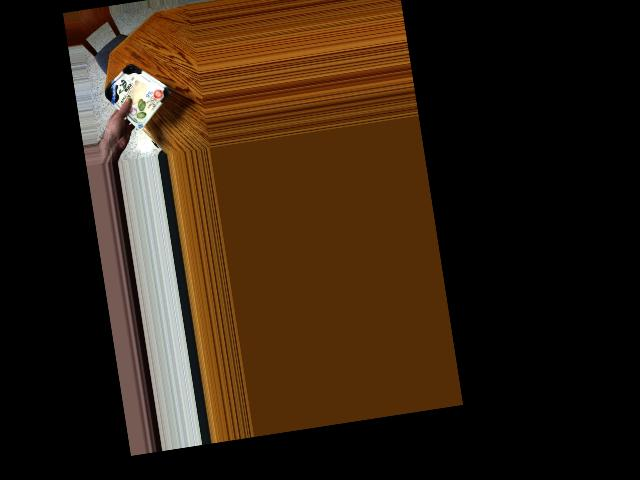cheese: (105, 67, 166, 114)
